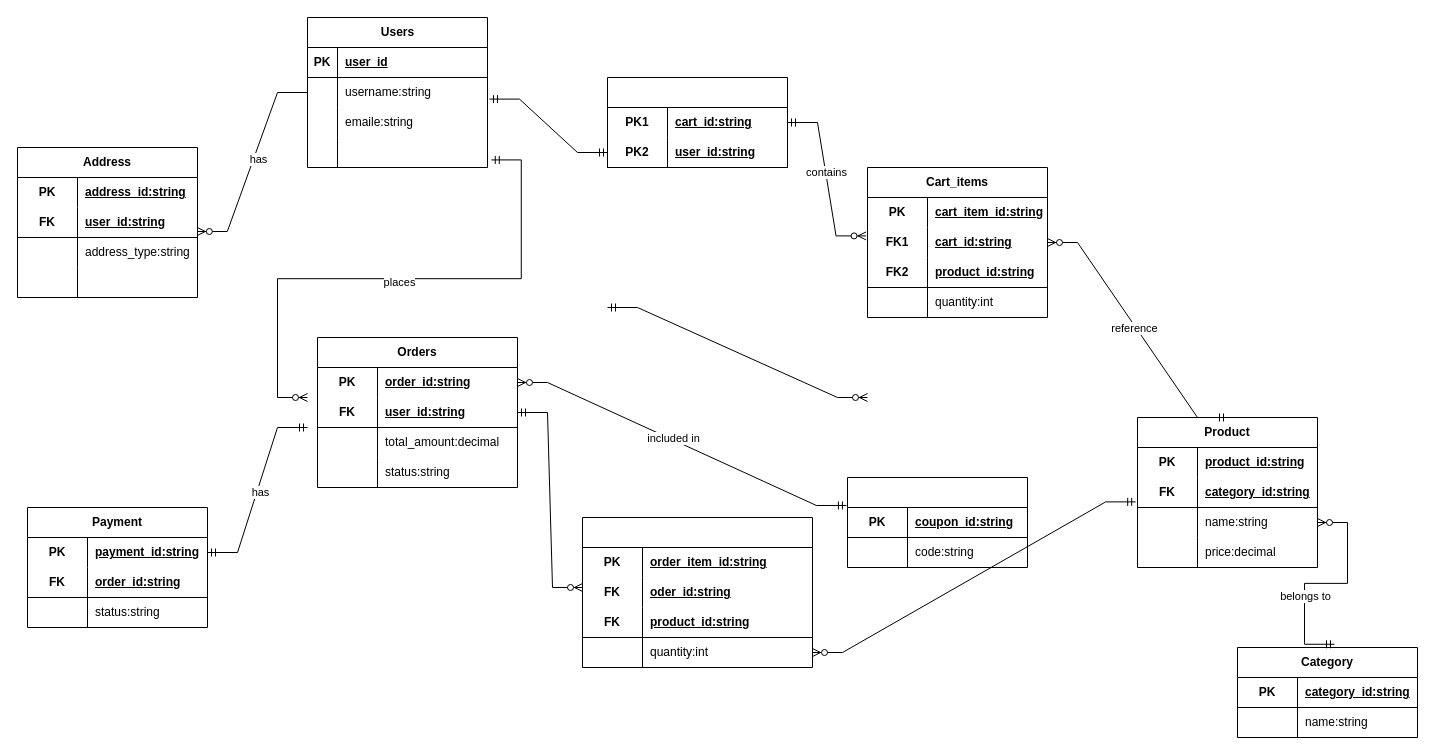
The diagram is 1435 pixels wide and 755 high, and some of its shapes have lost their labels. Each missing label, with the box of its shape:
Coupons: (846, 476, 1028, 568)
Order_items: (582, 516, 812, 668)
Shopping_carts: (606, 76, 788, 168)
